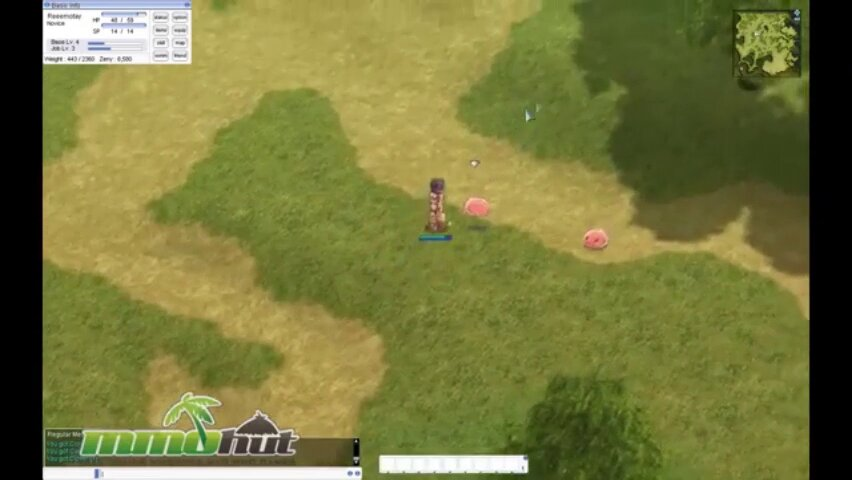Monster01: (575, 221, 612, 255), (463, 193, 493, 219)
